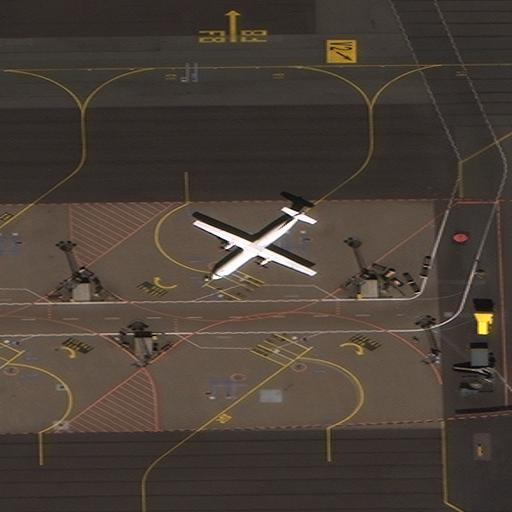Medium Civil Transport: (193, 209, 314, 281)
